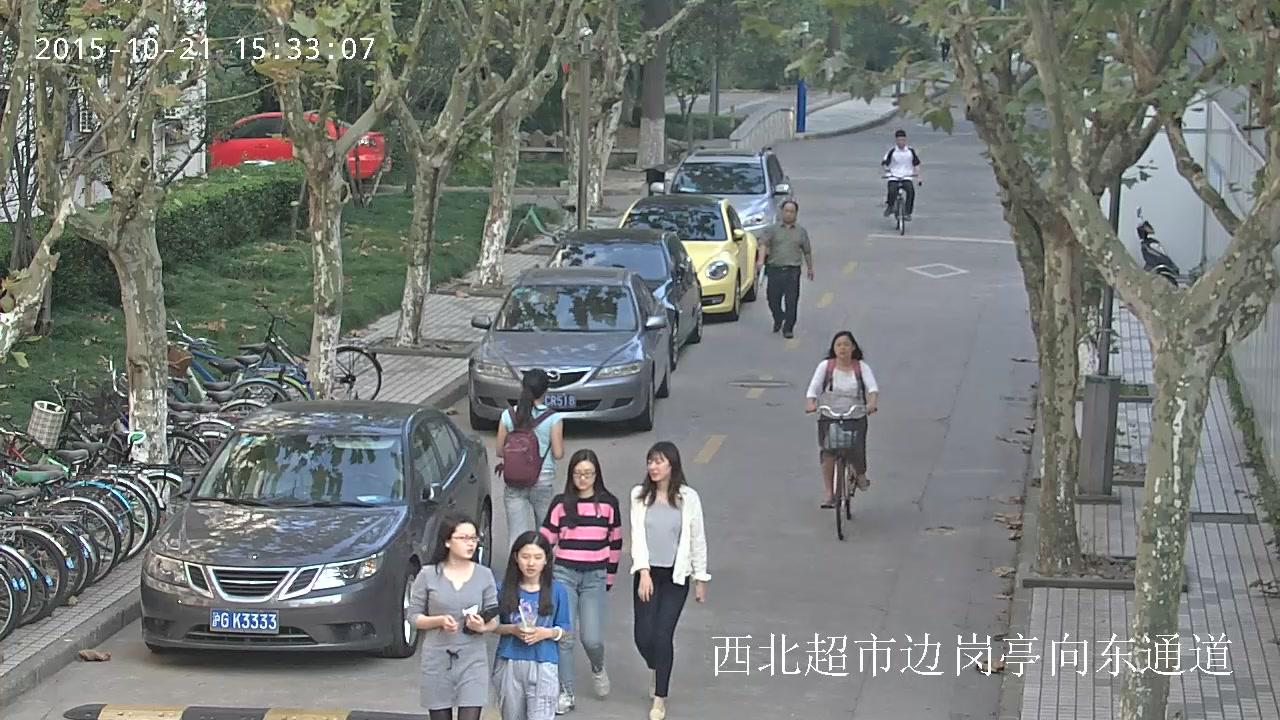person: (628, 442, 712, 720), (537, 449, 623, 698), (404, 515, 501, 720), (802, 330, 881, 542), (495, 530, 571, 720), (803, 331, 881, 507), (495, 367, 565, 549), (755, 199, 815, 338), (881, 130, 922, 236), (881, 130, 922, 222)
